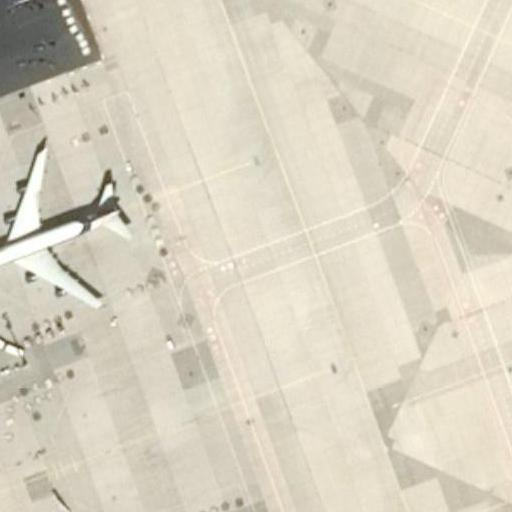Aircraft: (0, 142, 148, 314)
